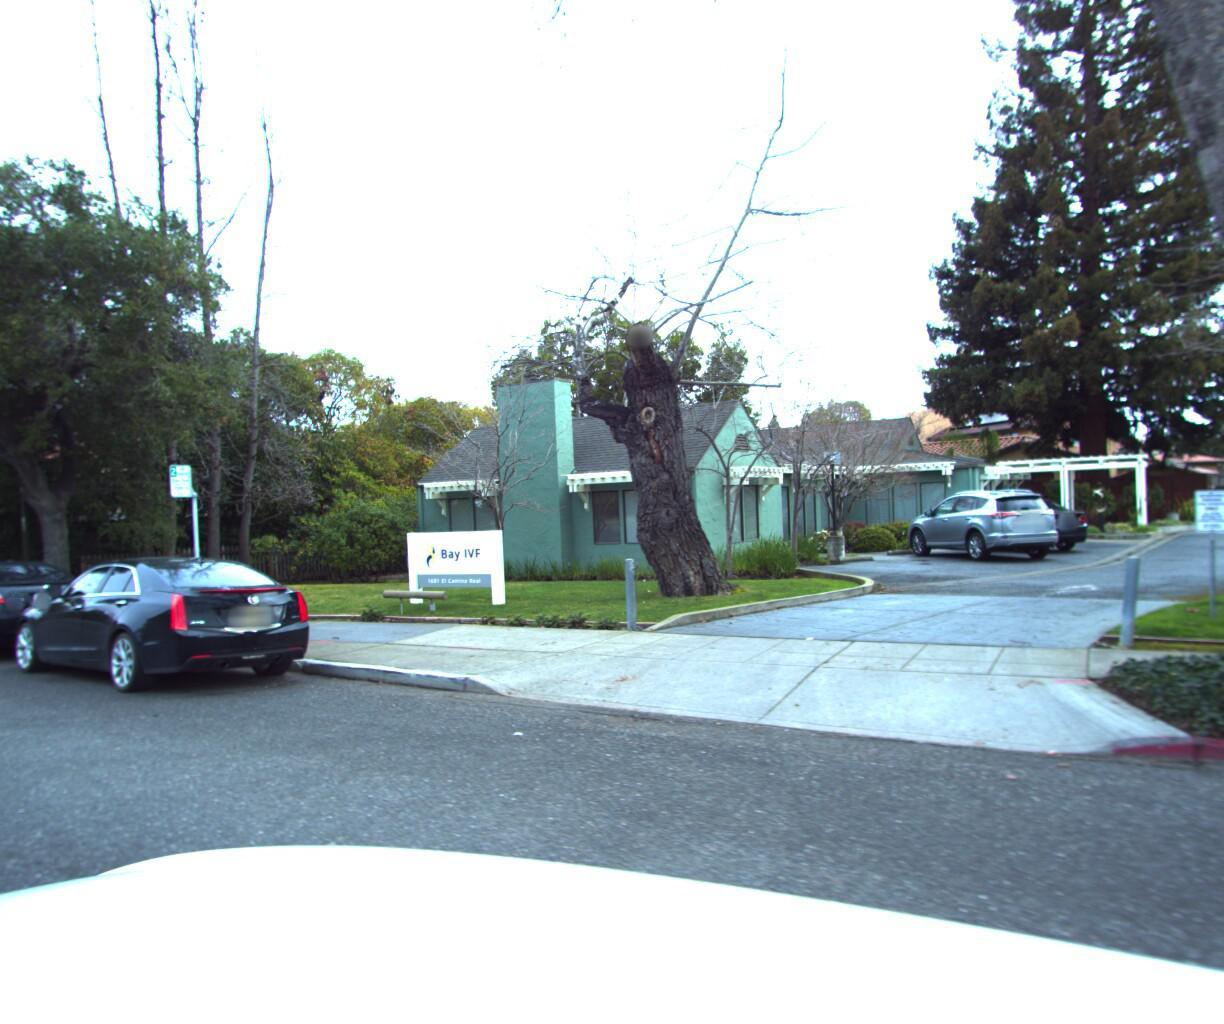car: (0, 544, 339, 724), (0, 552, 111, 675)
